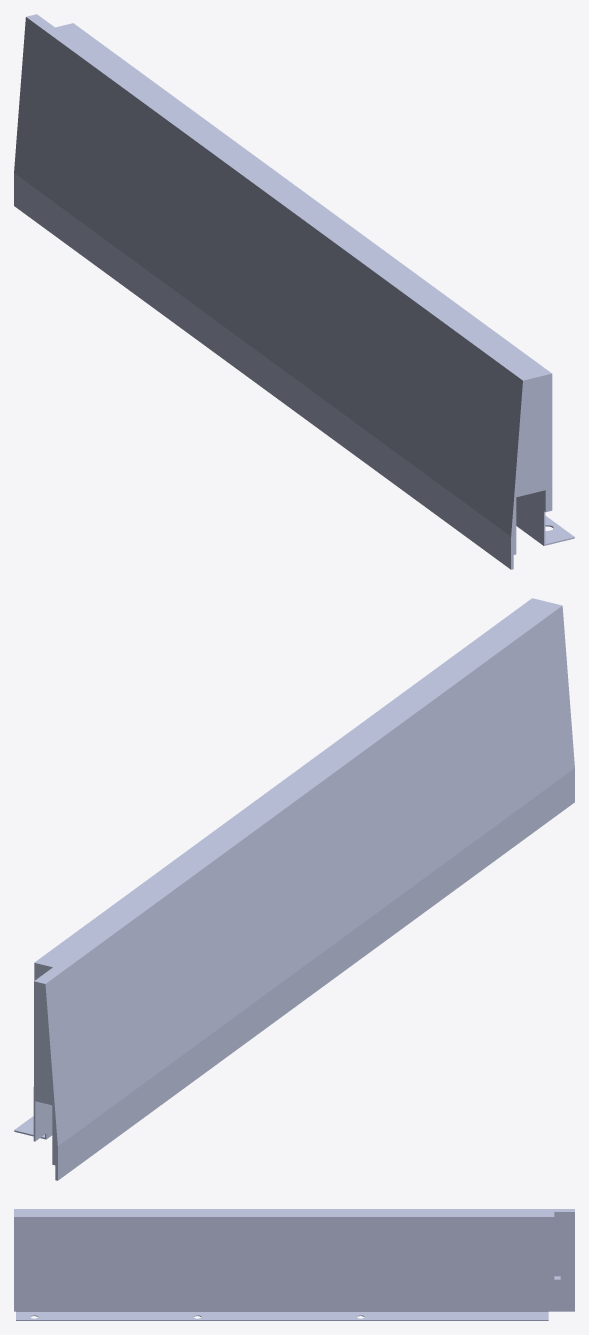
File: mv-kava-M450-p.glb
3 views of the same model, one above another, from view 1: azimuth 30°, elevation 25°; view 2: azimuth 150°, elevation 25°; view 3: azimuth 270°, elevation 25° (orthographic). The views are drawn at different scales.
Parts seen in each view (by area): view 1: 49822192; view 2: 49822192; view 3: 49822192.
Part boxes in pixels (<box>): 49822192: <box>14,14,574,569</box>; 49822192: <box>14,598,574,1180</box>; 49822192: <box>14,1209,574,1320</box>.
Bounding box in the file's own units: 0.0335 × 0.091 × 0.4402.
